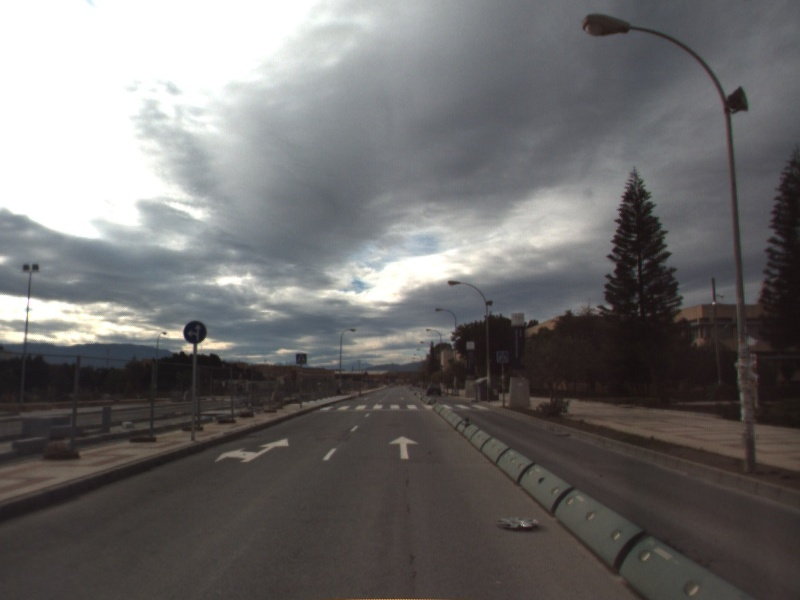STRAIGHT: (387, 433, 421, 461)
STRAIGHT_LEFT: (212, 435, 291, 465)
